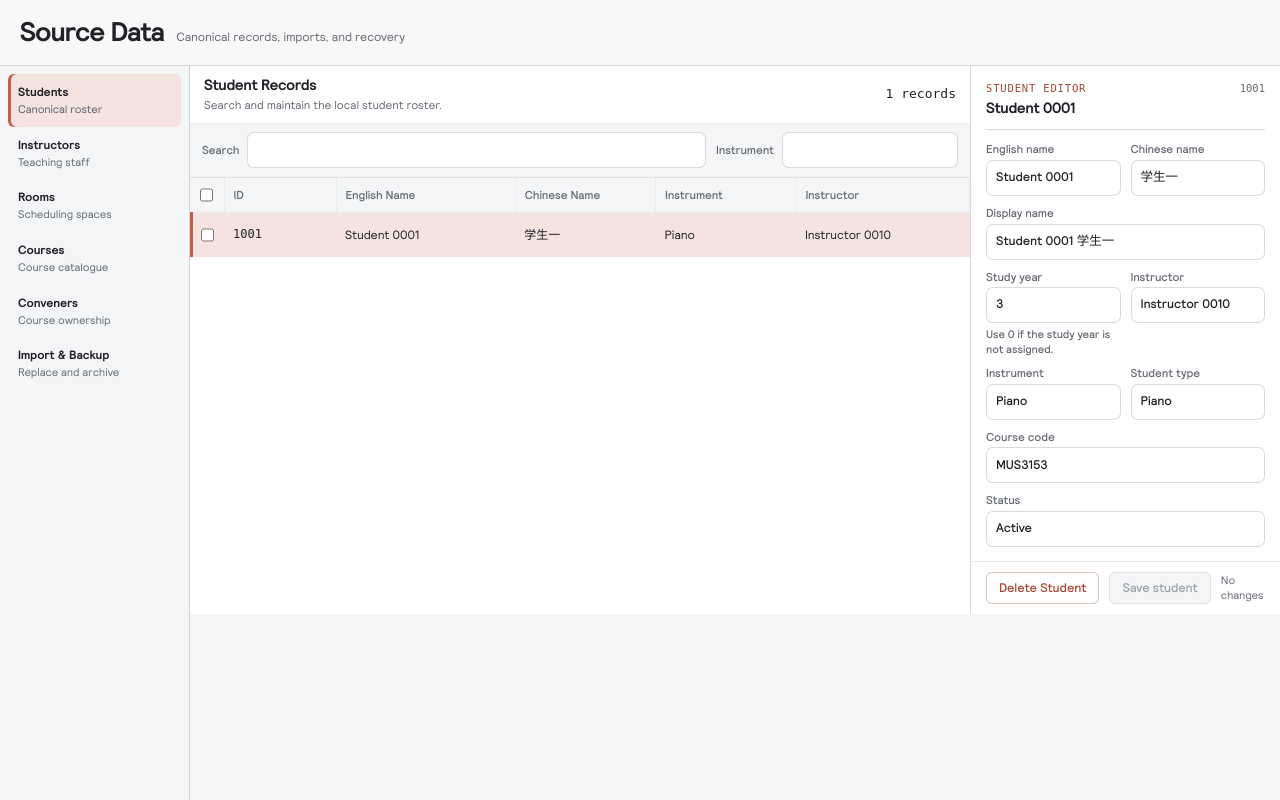
it: StudentHubPage › preserves touched draft through a 409 reload and retries with the fresh version
This screenshot has width=1280, height=800.
Replace the text in the field labelled "Instructor" with "Instructor 0001" at point(1198, 305), box x1=1130 y1=287 x2=1265 y2=323
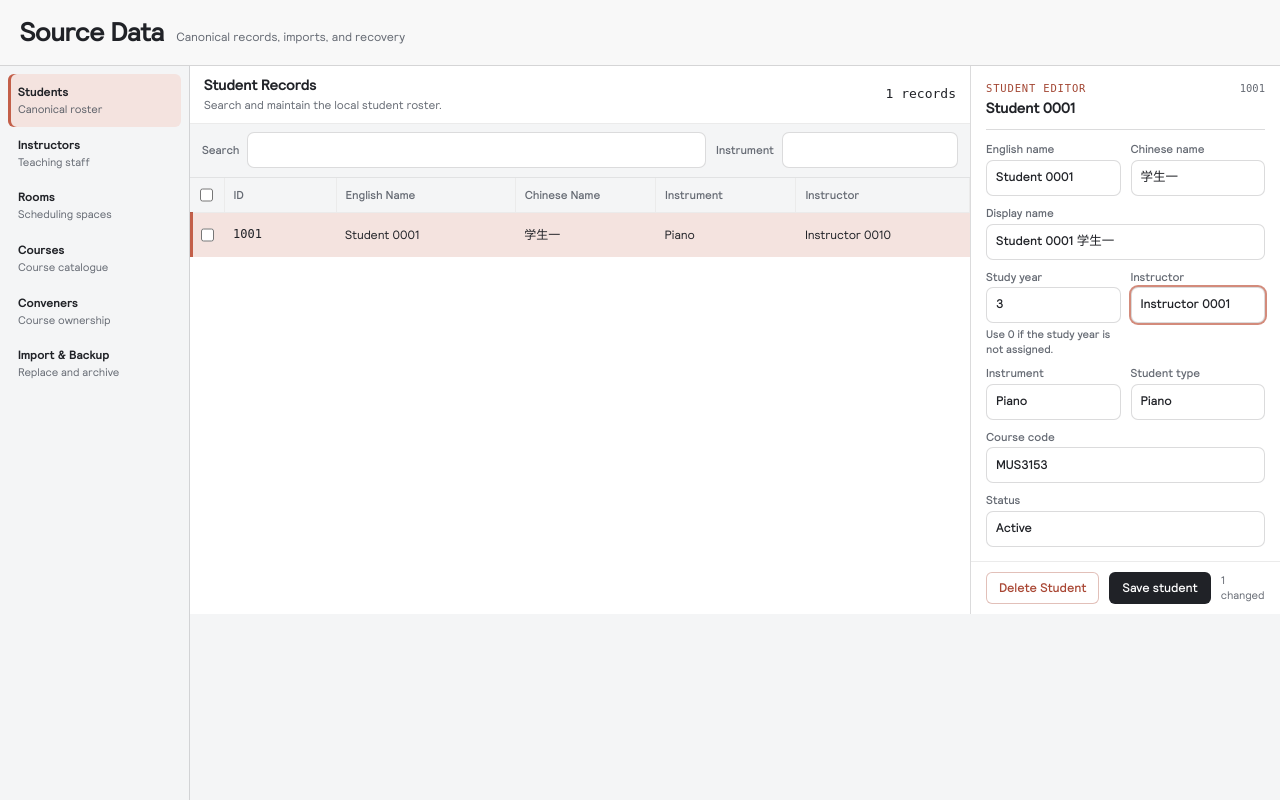
Click the button "Save student" at point(1160, 588), box x1=1110 y1=572 x2=1211 y2=604
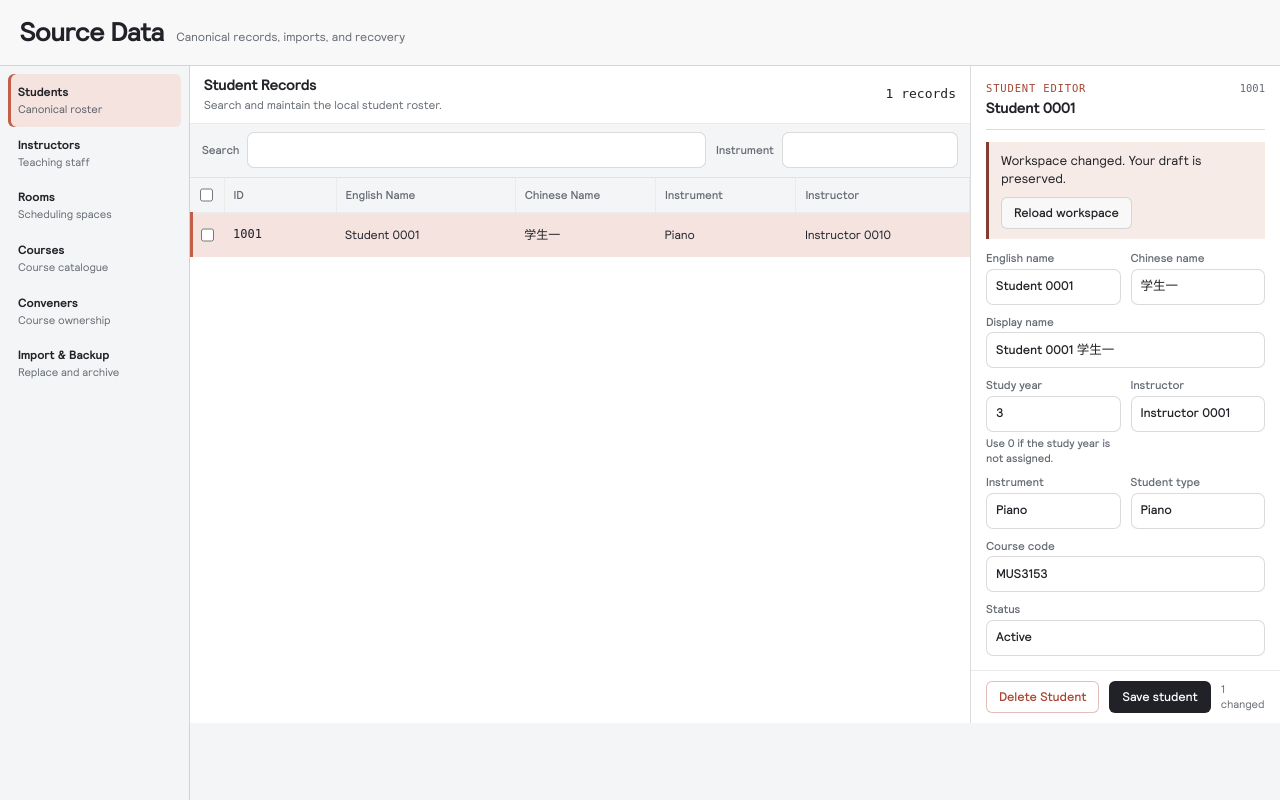
Check: the message shows "Workspace changed", box x1=1001 y1=153 x2=1122 y2=168
Click the button "Reload workspace" at point(1066, 213), box x1=1001 y1=197 x2=1132 y2=229
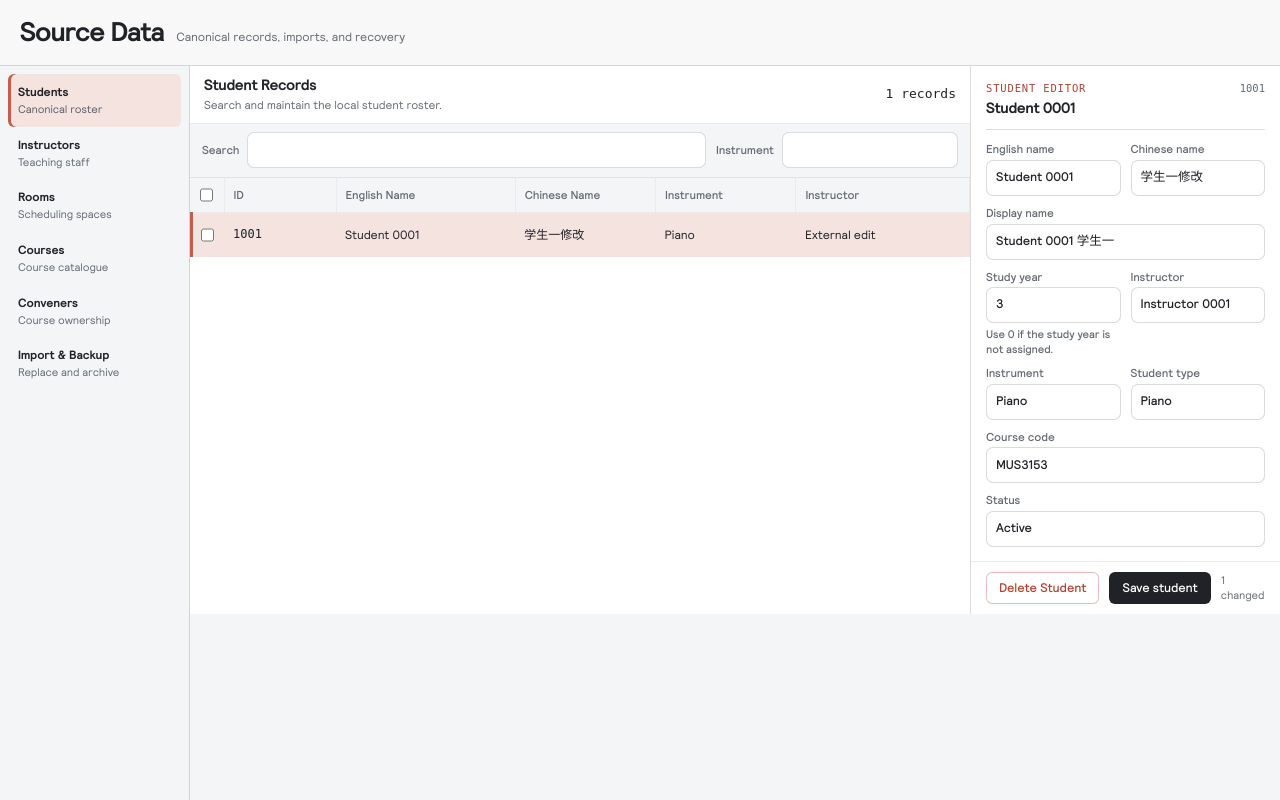
Check: the field labelled "Chinese name" holds "学生一修改", box x1=1130 y1=160 x2=1265 y2=196
Click the button "Save student" at point(1160, 588), box x1=1110 y1=572 x2=1211 y2=604
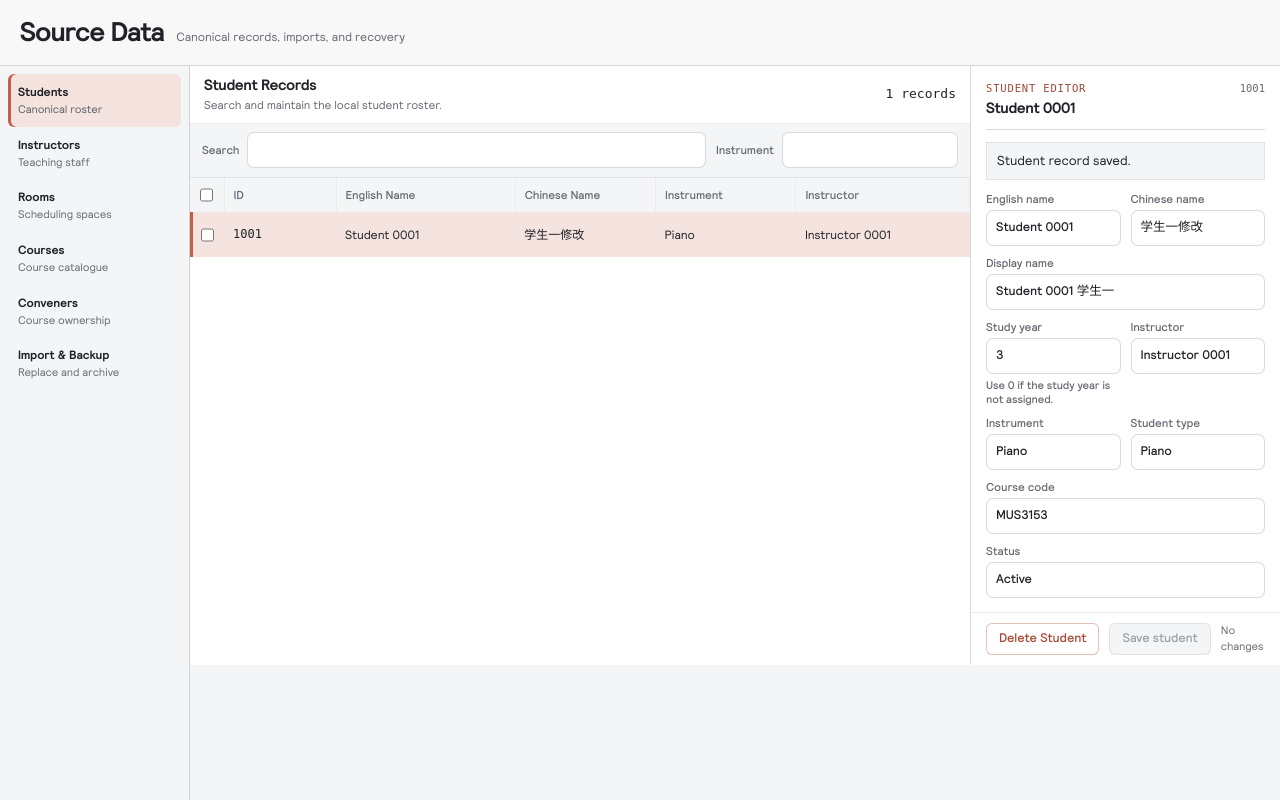
Check: the text "Student record saved." is shown, box x1=986 y1=142 x2=1265 y2=180
